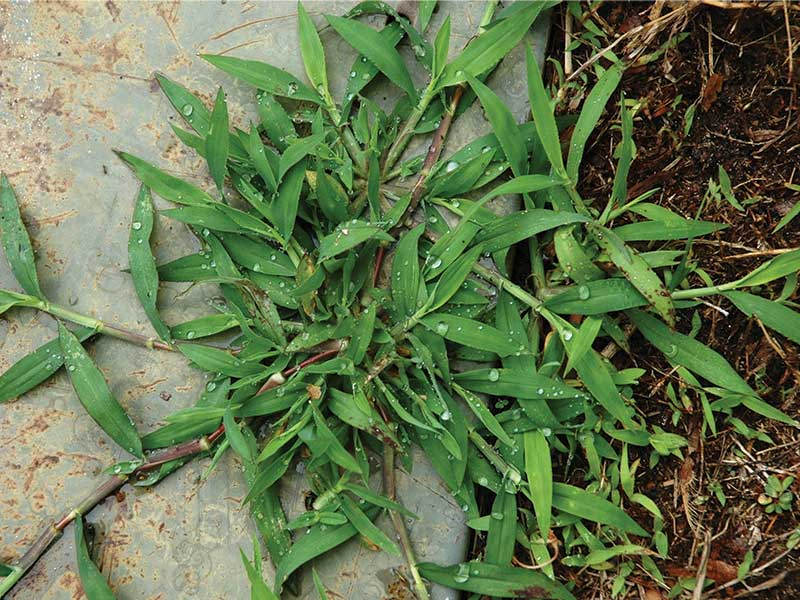crabgrass: (154, 60, 690, 556)
